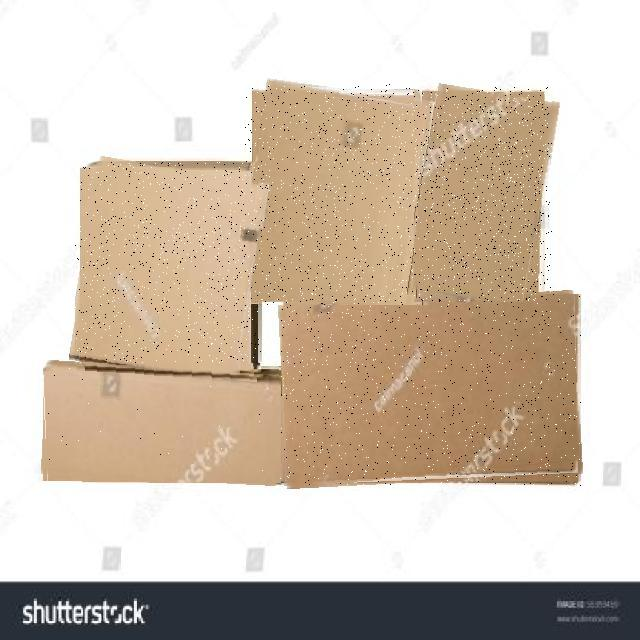BoxFace: (281, 294, 581, 486), (245, 84, 429, 305), (76, 162, 262, 380), (414, 87, 552, 302), (42, 363, 281, 483)
